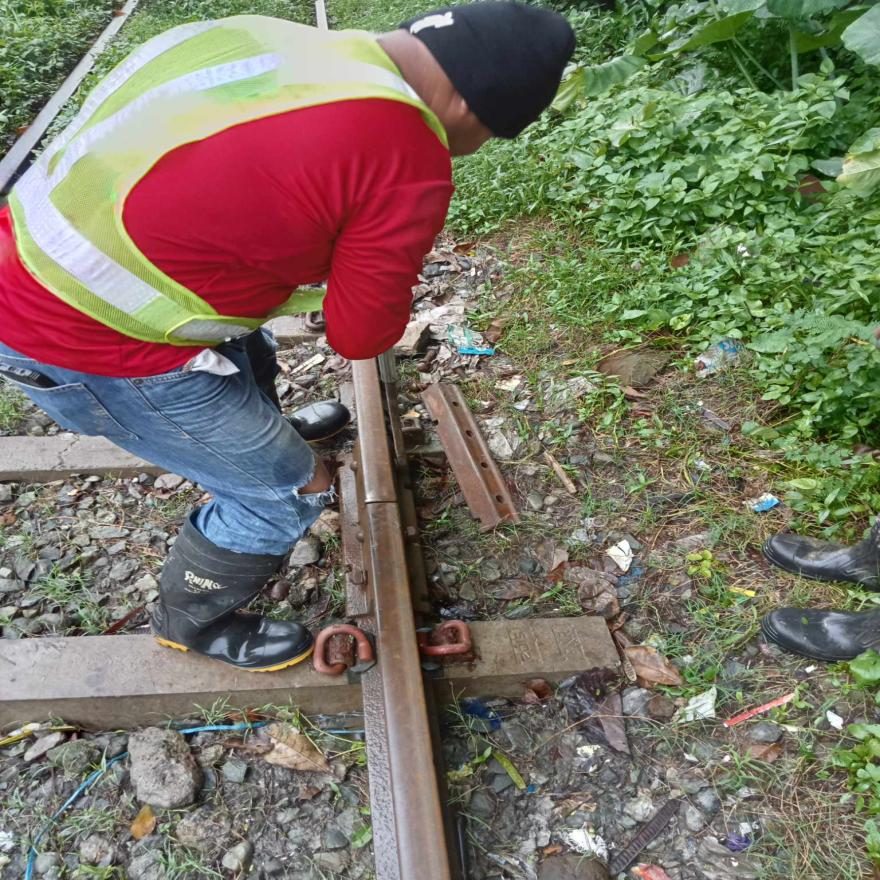railway-gap: (333, 470, 426, 537)
